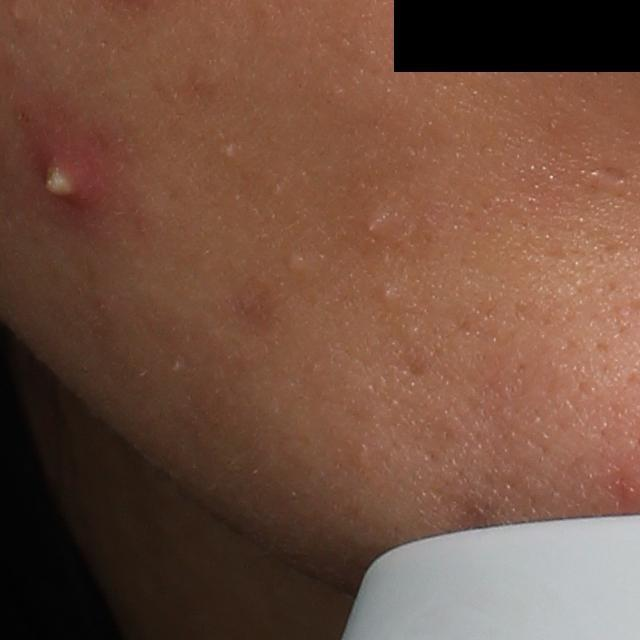atrophic_scar: (595, 162, 632, 186)
comedo: (279, 243, 310, 277), (362, 212, 386, 242), (380, 283, 398, 306), (221, 139, 236, 160)
pustule: (19, 107, 118, 228)
